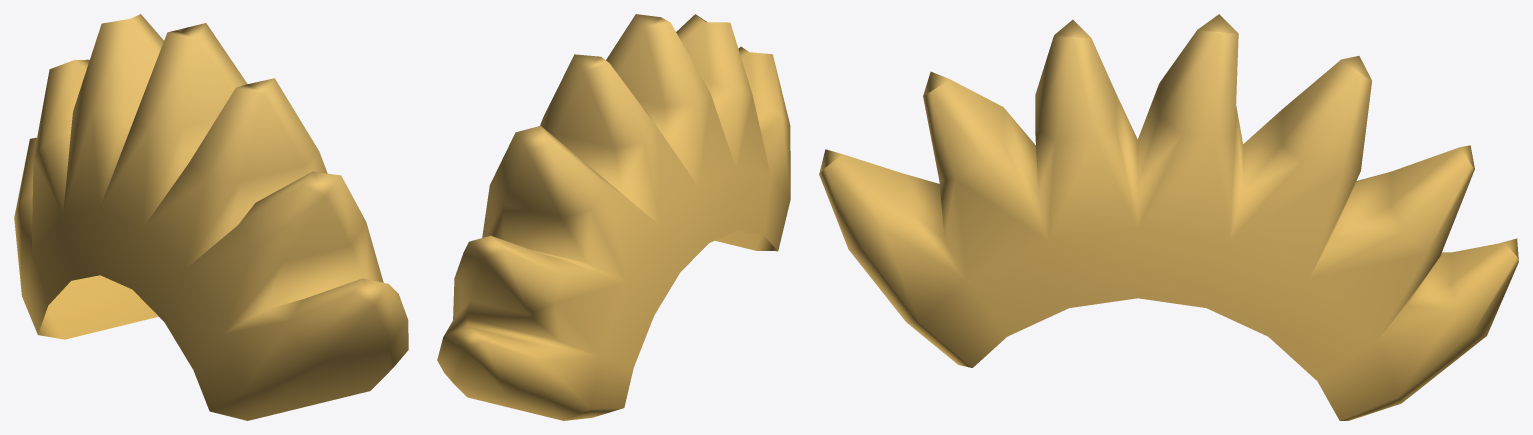
File: Hair_18.fbx
The picture shows the model from 3 angles, left to right: view 1: azimuth 30°, elevation 25°; view 2: azimuth 150°, elevation 25°; view 3: azimuth 270°, elevation 25°; orthographic projection. The views are drawn at different scales.
Parts seen in each view (by area): view 1: Hair_18; view 2: Hair_18; view 3: Hair_18.
Boxes of the visible parts, bbox=[...] form: Hair_18: bbox=[14, 14, 408, 420]; Hair_18: bbox=[437, 14, 790, 420]; Hair_18: bbox=[819, 14, 1518, 420].
Bounding box in the file's own units: 23.1 × 40.7 × 70.74.
